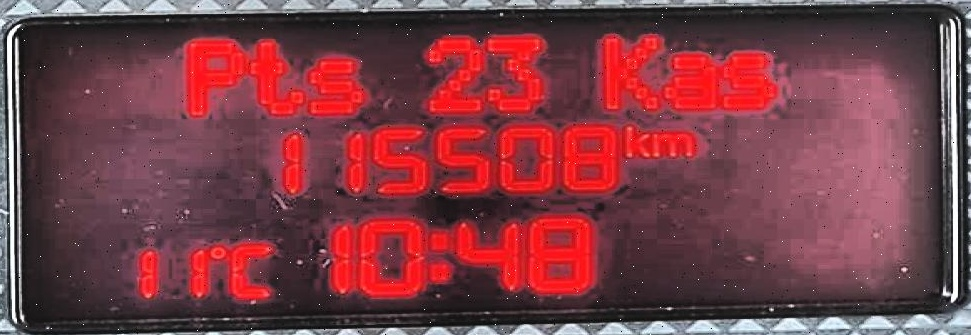0: (356, 216, 424, 297), (495, 124, 555, 193)
1: (326, 220, 352, 296), (342, 130, 366, 194), (279, 130, 302, 194), (135, 247, 157, 300), (187, 246, 205, 299)
2: (423, 35, 483, 112)
3: (484, 35, 543, 112)
4: (455, 220, 520, 292)
5: (368, 126, 428, 193), (433, 125, 490, 194)
8: (523, 215, 591, 292), (560, 124, 618, 191)
X: (182, 39, 245, 118), (600, 34, 660, 110), (245, 39, 304, 115), (307, 56, 364, 115), (719, 52, 776, 110), (660, 51, 718, 108), (226, 242, 273, 297), (426, 230, 451, 281), (650, 130, 695, 157), (620, 124, 650, 158)
